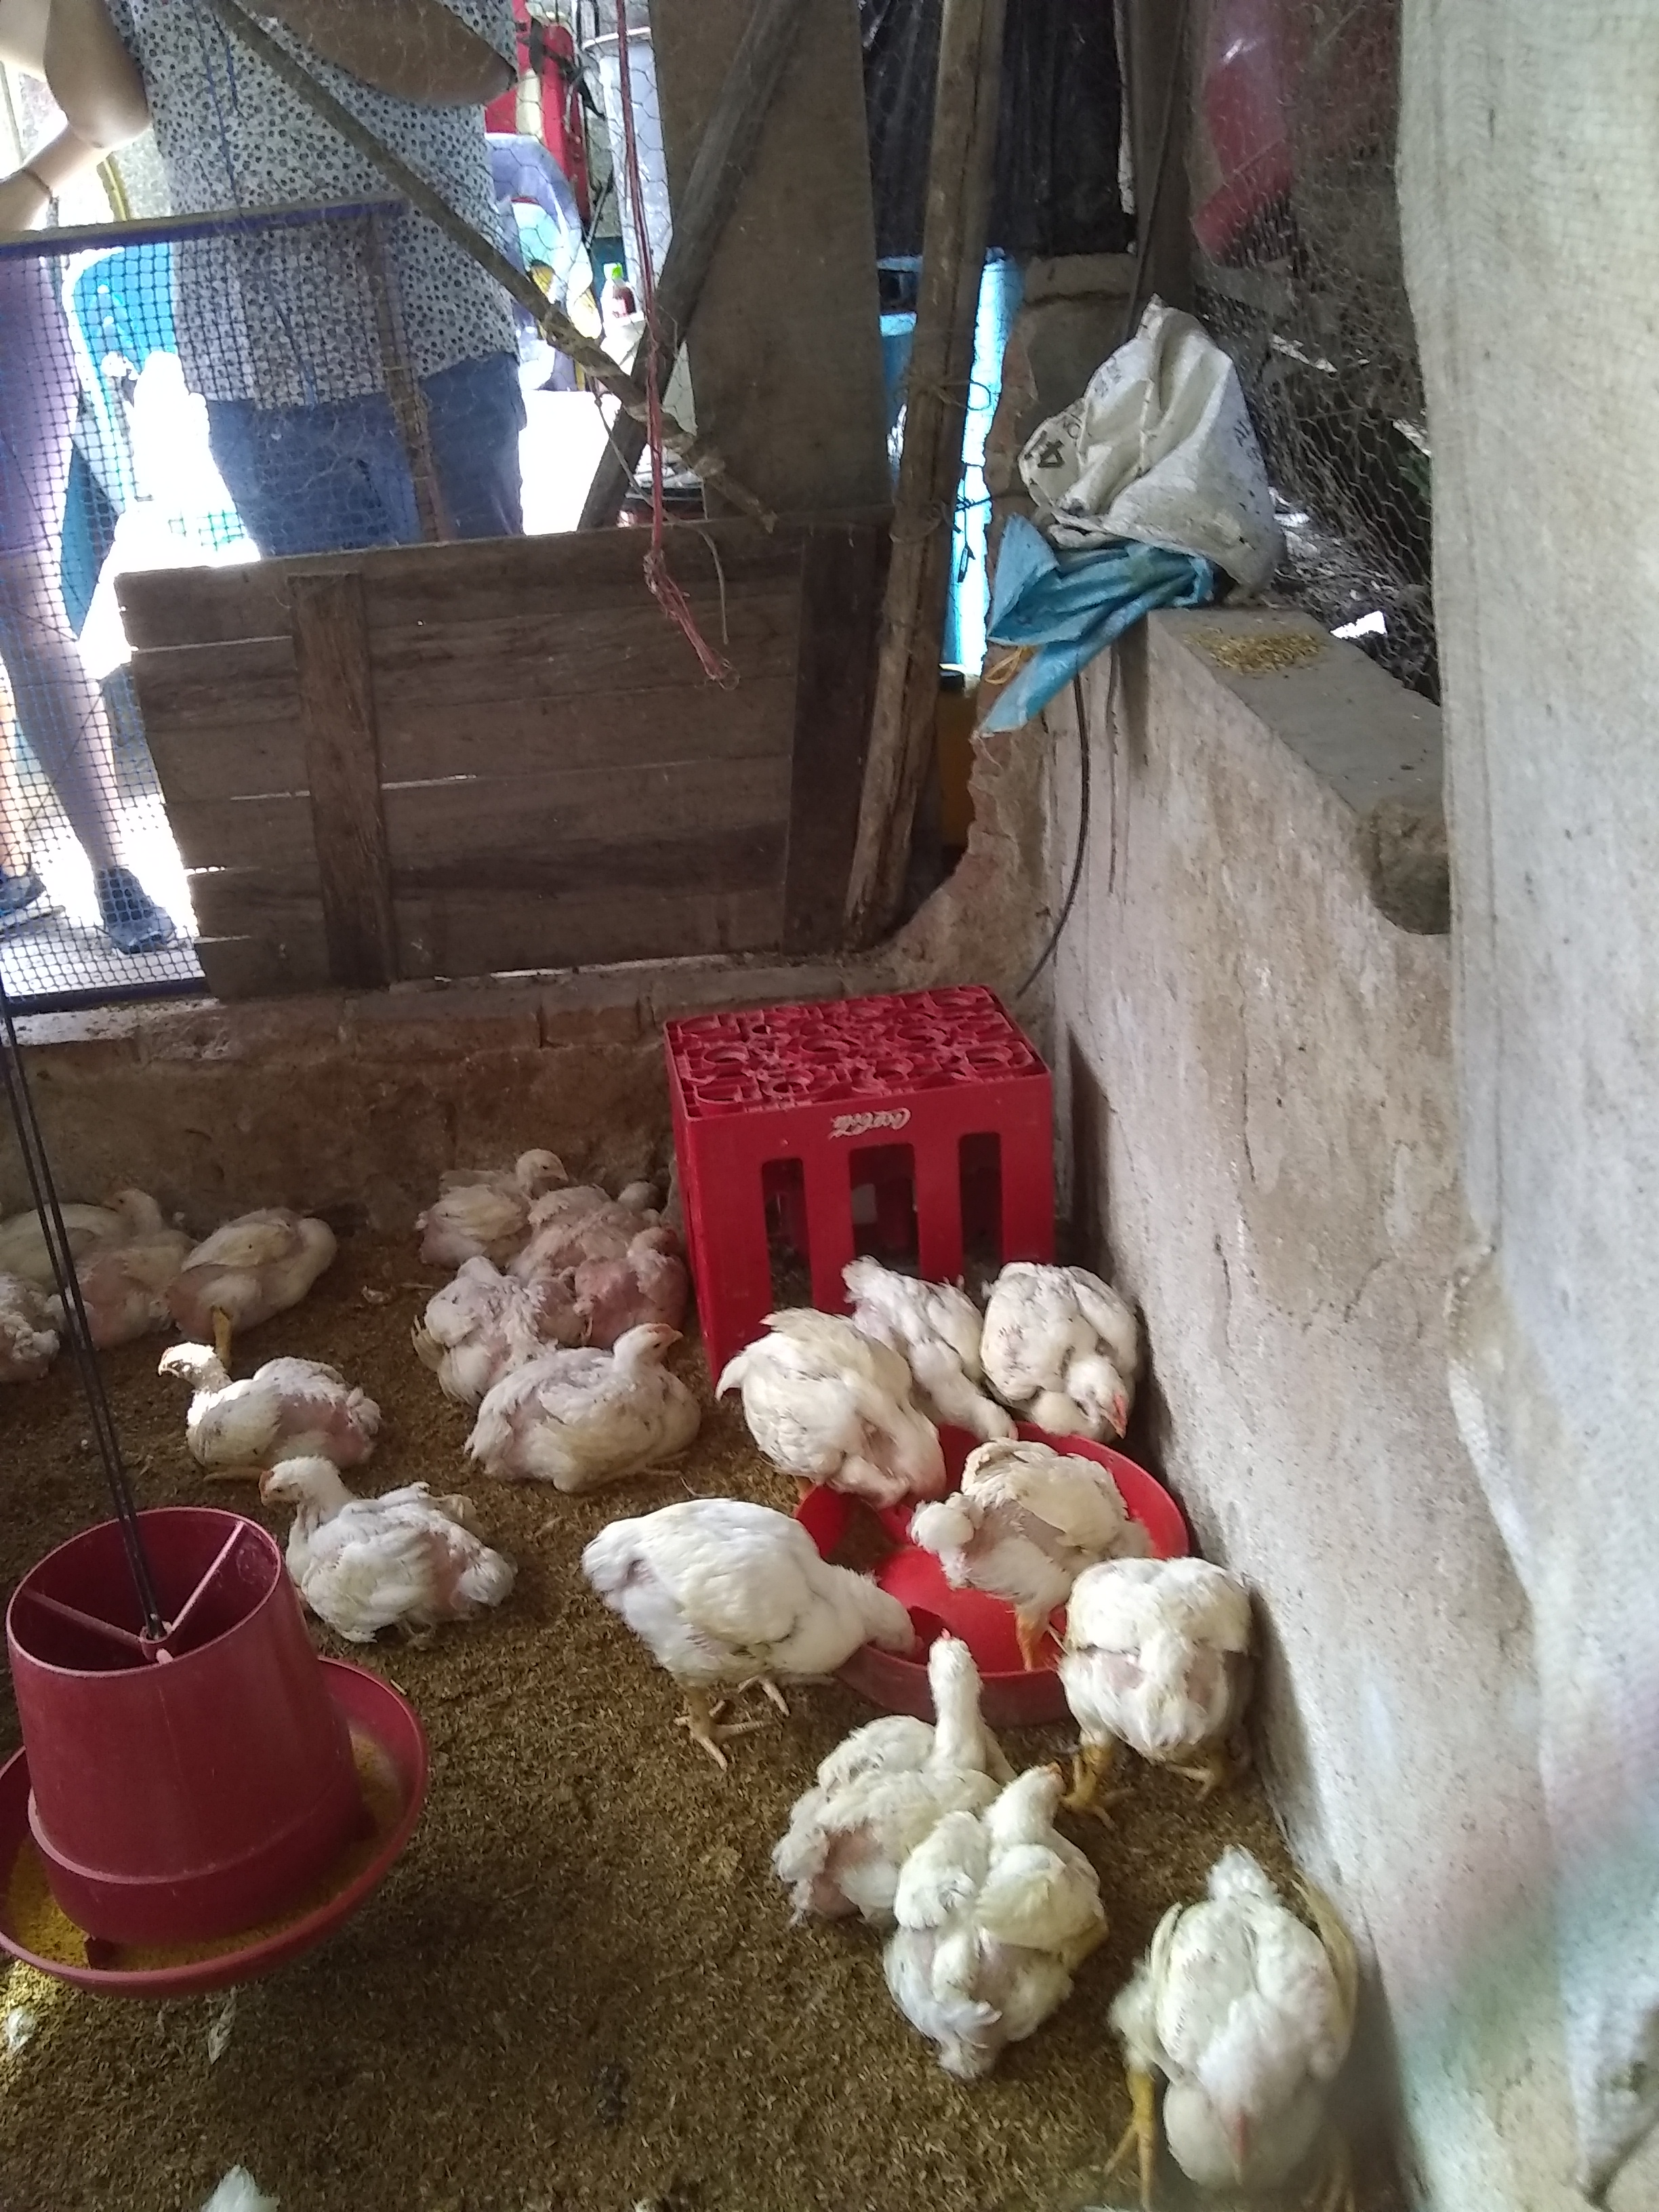Pollos: (1134, 1846, 1359, 2181), (894, 1759, 1098, 2060), (596, 1507, 917, 1665), (728, 1301, 945, 1491), (256, 1460, 516, 1616), (1070, 1555, 1272, 1756), (922, 1433, 1131, 1615), (488, 1320, 688, 1479), (983, 1261, 1157, 1437), (146, 1341, 387, 1461), (850, 1632, 993, 1817), (193, 1204, 335, 1334), (425, 1259, 554, 1371), (92, 1186, 204, 1296), (439, 1144, 558, 1237), (577, 1219, 676, 1322)
